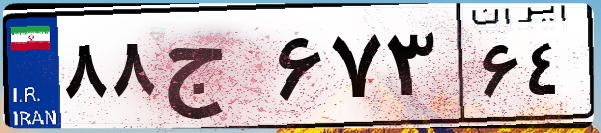3: (385, 28, 445, 110)
4: (525, 38, 570, 115)
6: (270, 28, 330, 110), (475, 38, 525, 113)
7: (330, 28, 385, 110)
8: (57, 26, 110, 100), (110, 28, 158, 98)
ج: (158, 20, 270, 120)
